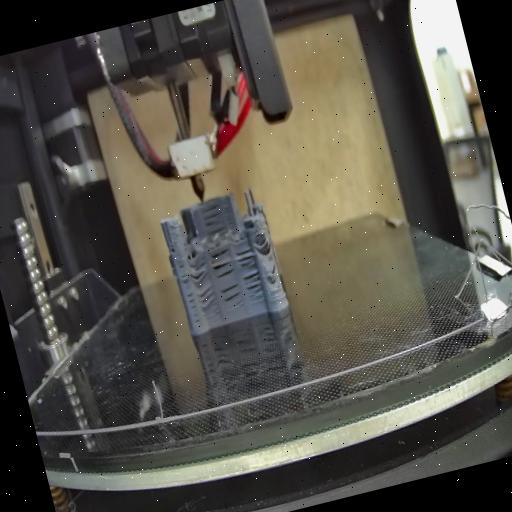cracks: (178, 266, 202, 326), (199, 202, 231, 236), (208, 246, 237, 282), (220, 280, 247, 312), (242, 270, 266, 304), (188, 260, 212, 284), (236, 246, 258, 269), (198, 287, 219, 310), (256, 232, 276, 256), (266, 258, 281, 280), (168, 240, 178, 256)
